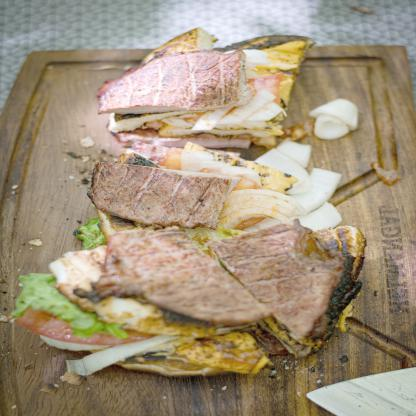Carne: (86, 229, 254, 323), (209, 222, 331, 336), (71, 161, 238, 224), (100, 48, 245, 113)
